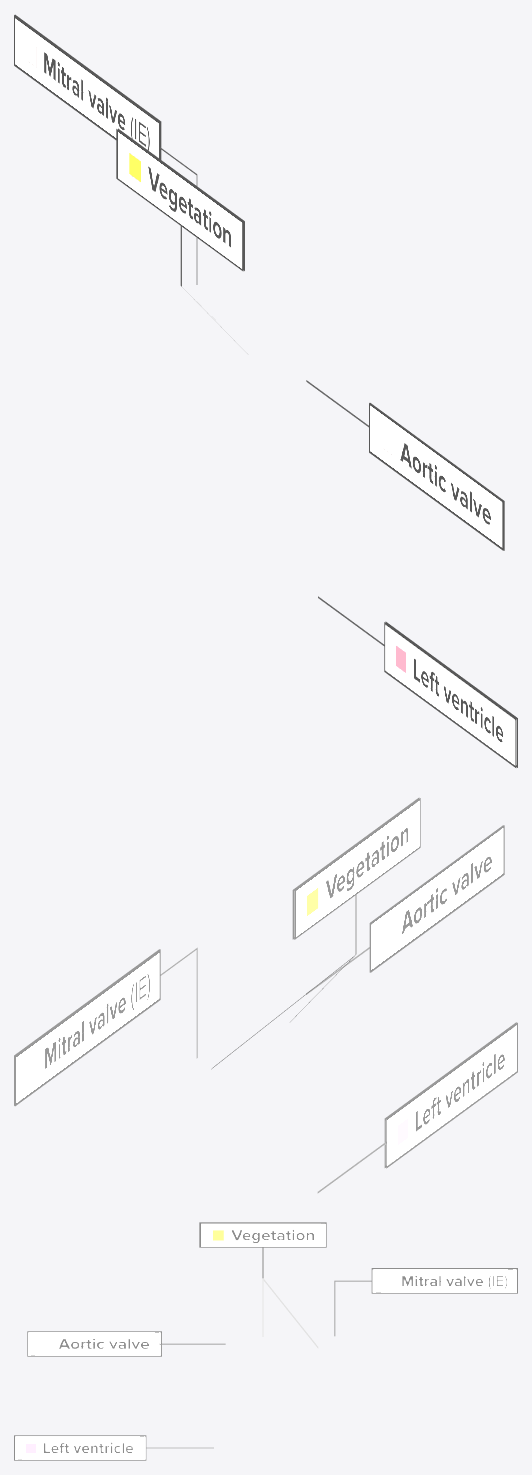
The model's file is cardiac labels IE.gltf.
The picture shows the model from 3 angles, top to bottom: view 1: azimuth 30°, elevation 25°; view 2: azimuth 150°, elevation 25°; view 3: azimuth 270°, elevation 25°; orthographic projection. The views are drawn at different scales.
Parts seen in each view (by area): view 1: labels.002, labels.004, labels.007, labels.005; view 2: labels.002, labels.004, labels.007, labels.005, labels.012; view 3: labels, labels.003, labels.006, labels.001, labels.012.
Part boxes in pixels (x1,y1,x2,y2): labels.002: (14, 15, 160, 158); labels.004: (369, 403, 503, 550); labels.007: (384, 622, 516, 767); labels.005: (116, 129, 243, 271); labels.002: (15, 949, 160, 1106); labels.004: (370, 825, 504, 972); labels.007: (386, 1022, 517, 1168); labels.005: (294, 798, 420, 939); labels.012: (160, 895, 386, 1193); labels: (371, 1268, 517, 1293); labels.003: (27, 1331, 161, 1356); labels.006: (14, 1435, 146, 1460); labels.001: (199, 1222, 326, 1247); labels.012: (146, 1247, 371, 1448).
Bounding box in the file's own units: 0.0976 × 0.4395 × 0.9272.
